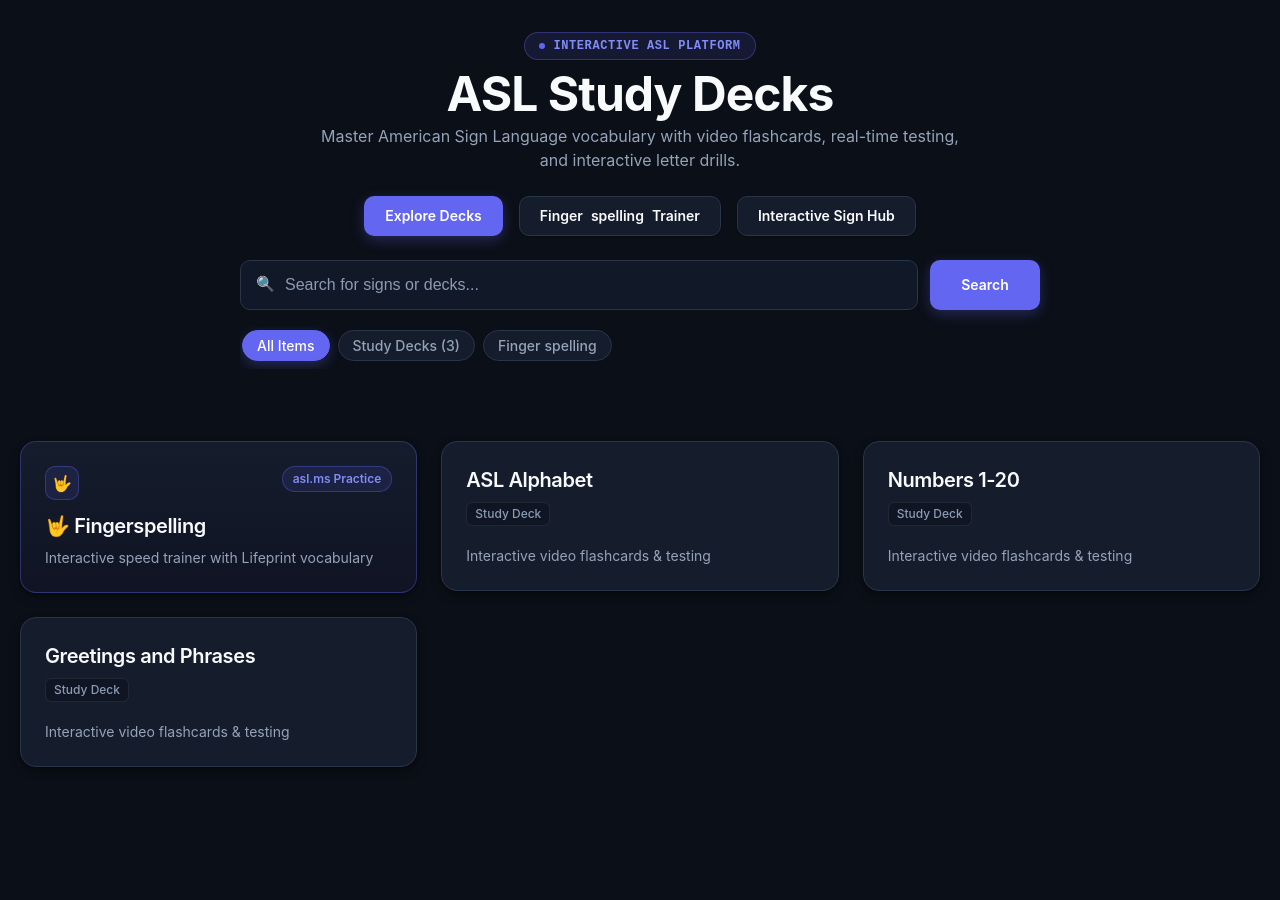
Scenario: Home Component (Features 11 to 15) › Feature 12: Real-Time Search and Category Filters › inline clear button clears search text and restores all items
The width and height of the screenshot is (1280, 900).
Check: the heading "ASL Alphabet" is shown, box [466,468,593,492]
Type "Greetings" into the field with placeholder "Search for signs or decks..." at [579, 284], box [240,260,918,310]
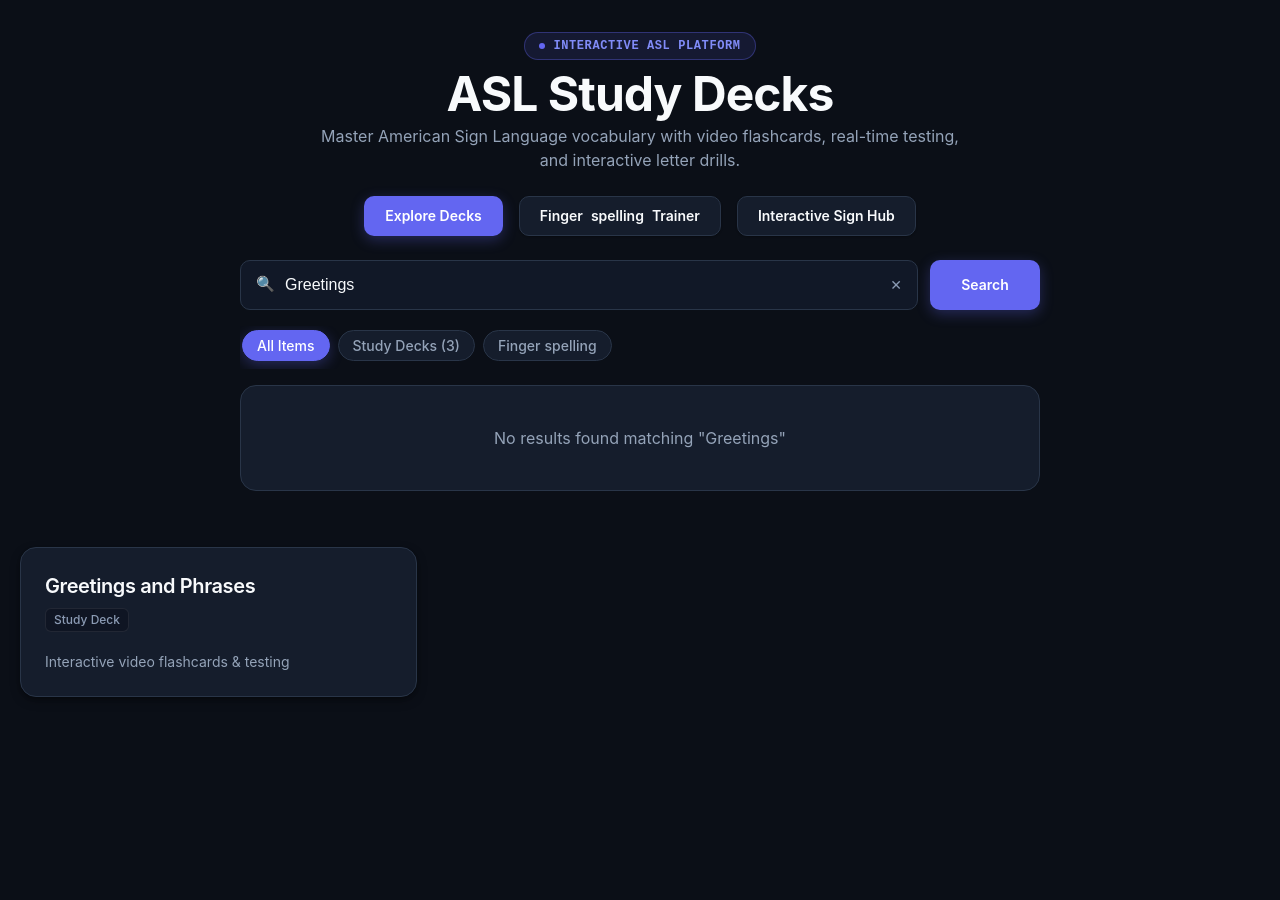
Check: the link "ASL Alphabet" is gone
Click the button named "Clear" at [896, 284], box [886,274,906,296]
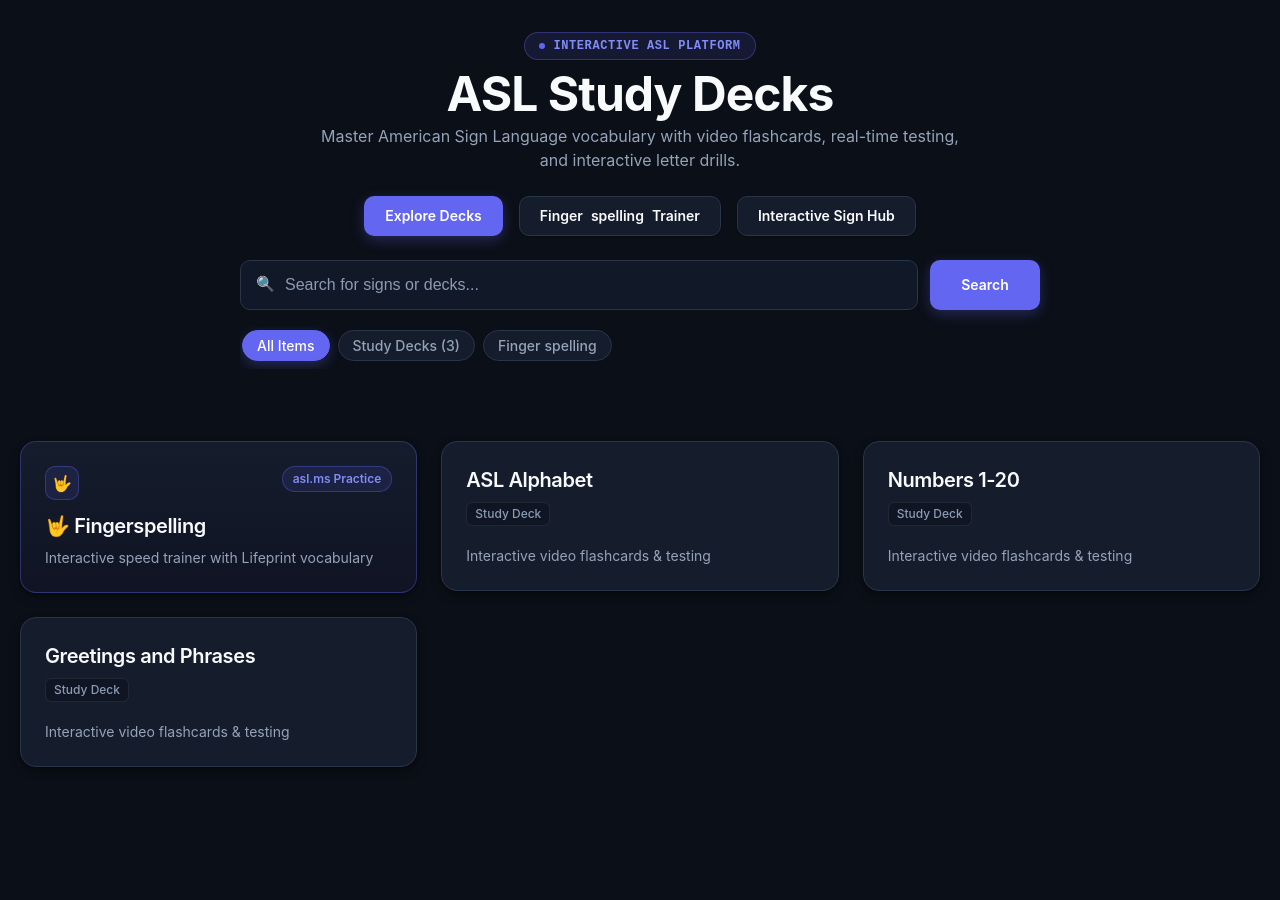
Check: the field with placeholder "Search for signs or decks..." is empty, box [240,260,918,310]
Check: the heading "ASL Alphabet" is shown, box [466,468,593,492]
